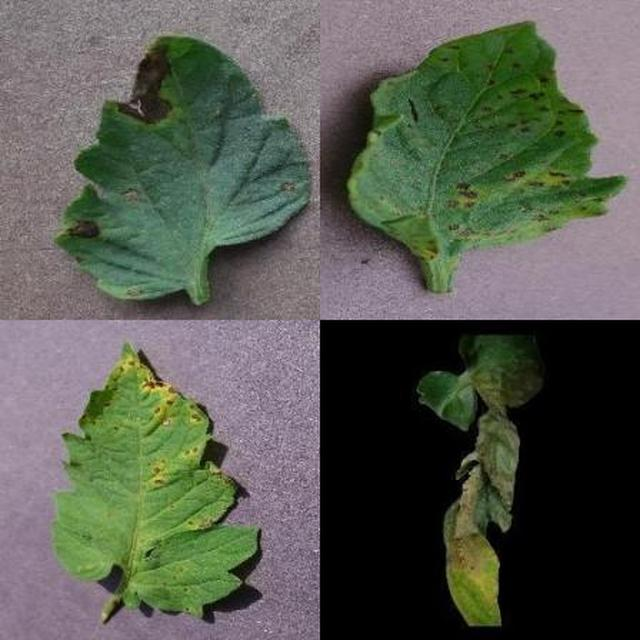Early Blight Leaf: (189, 200, 640, 640)
